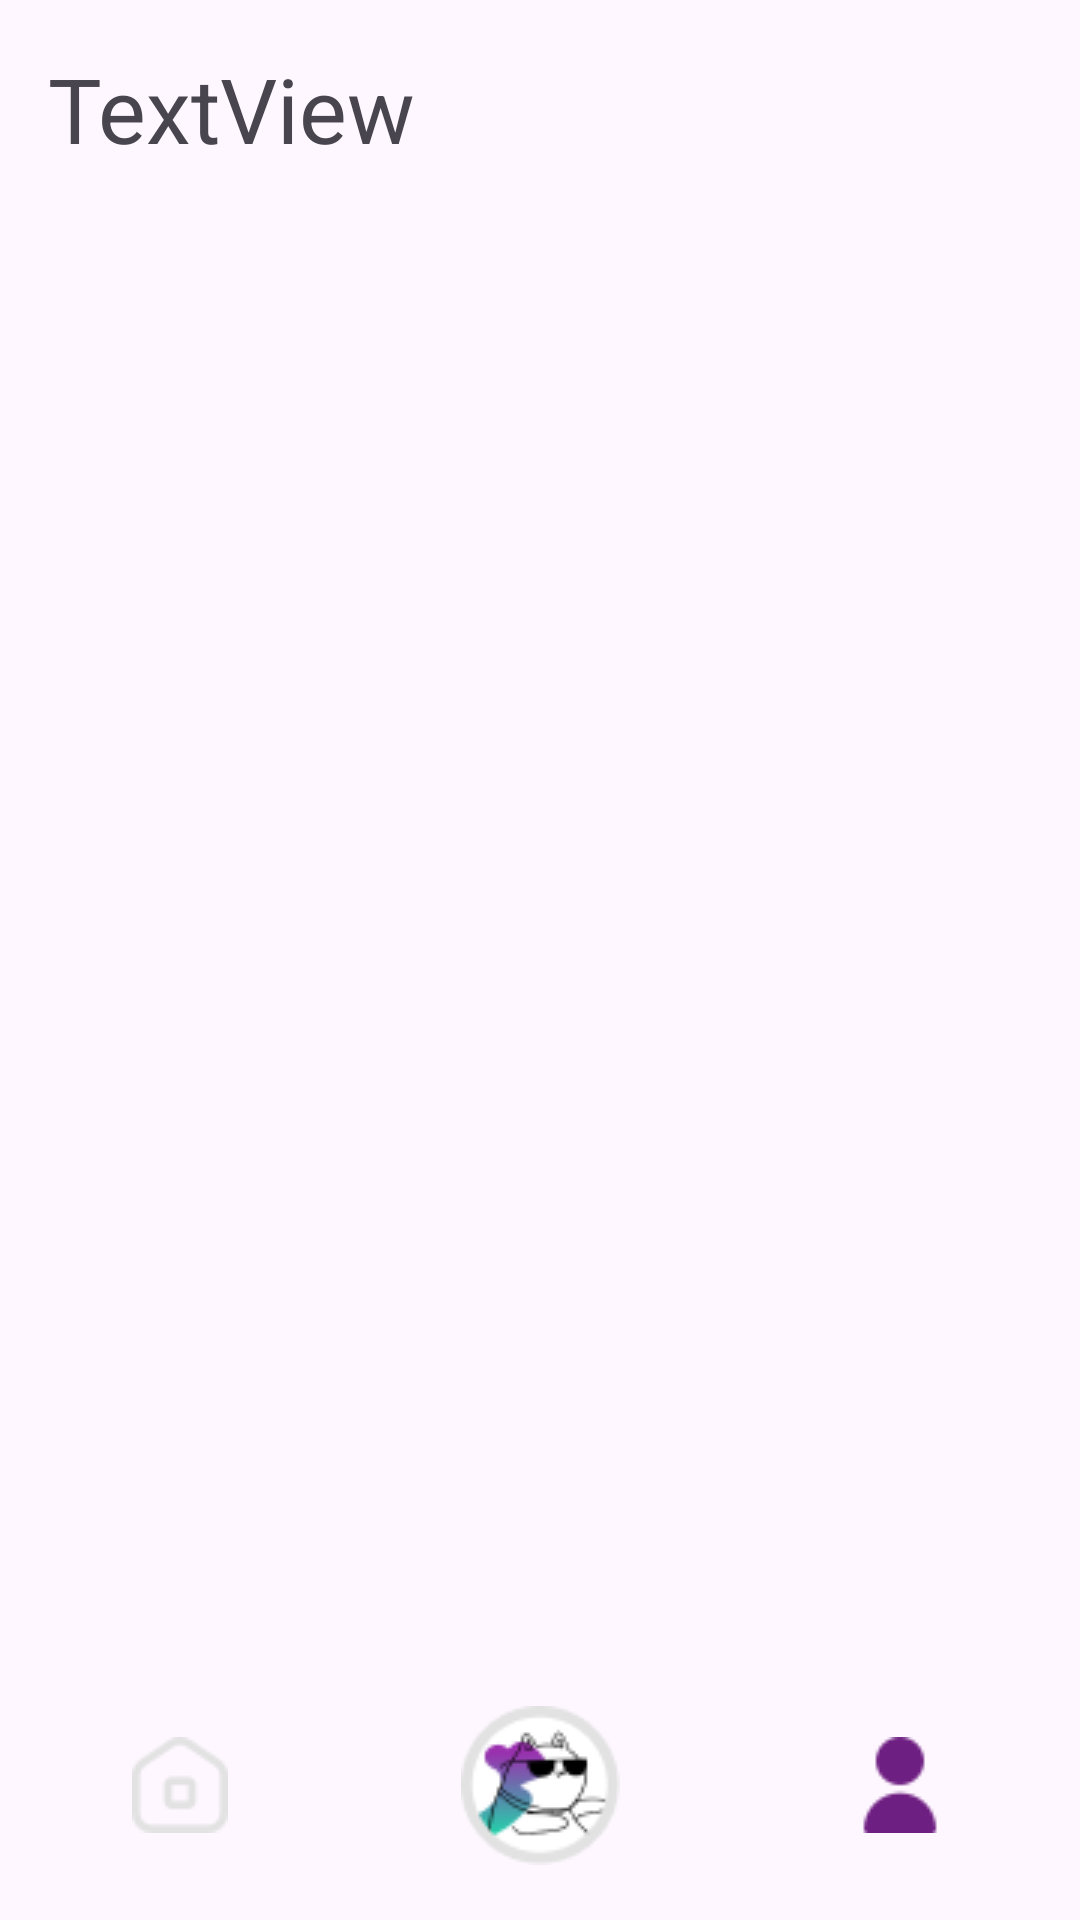

Screen size 1080 × 1920. Icon name, then its box in pixels as bbox=[x1, y1, x2, y2]:
Home Button: bbox=[132, 1737, 228, 1833]
